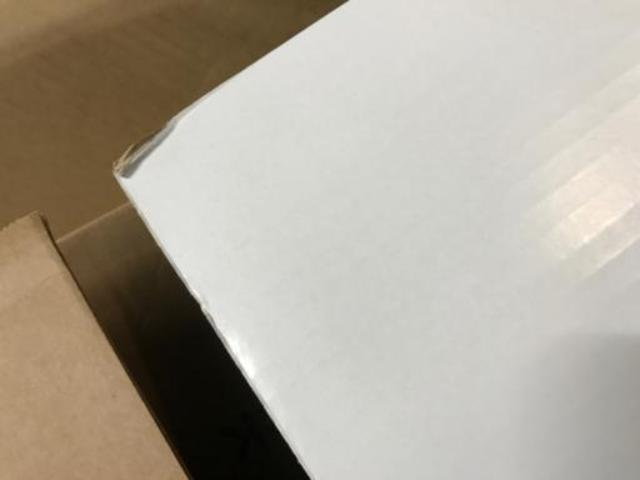cardboard paper: (115, 1, 638, 475), (0, 212, 184, 476)
